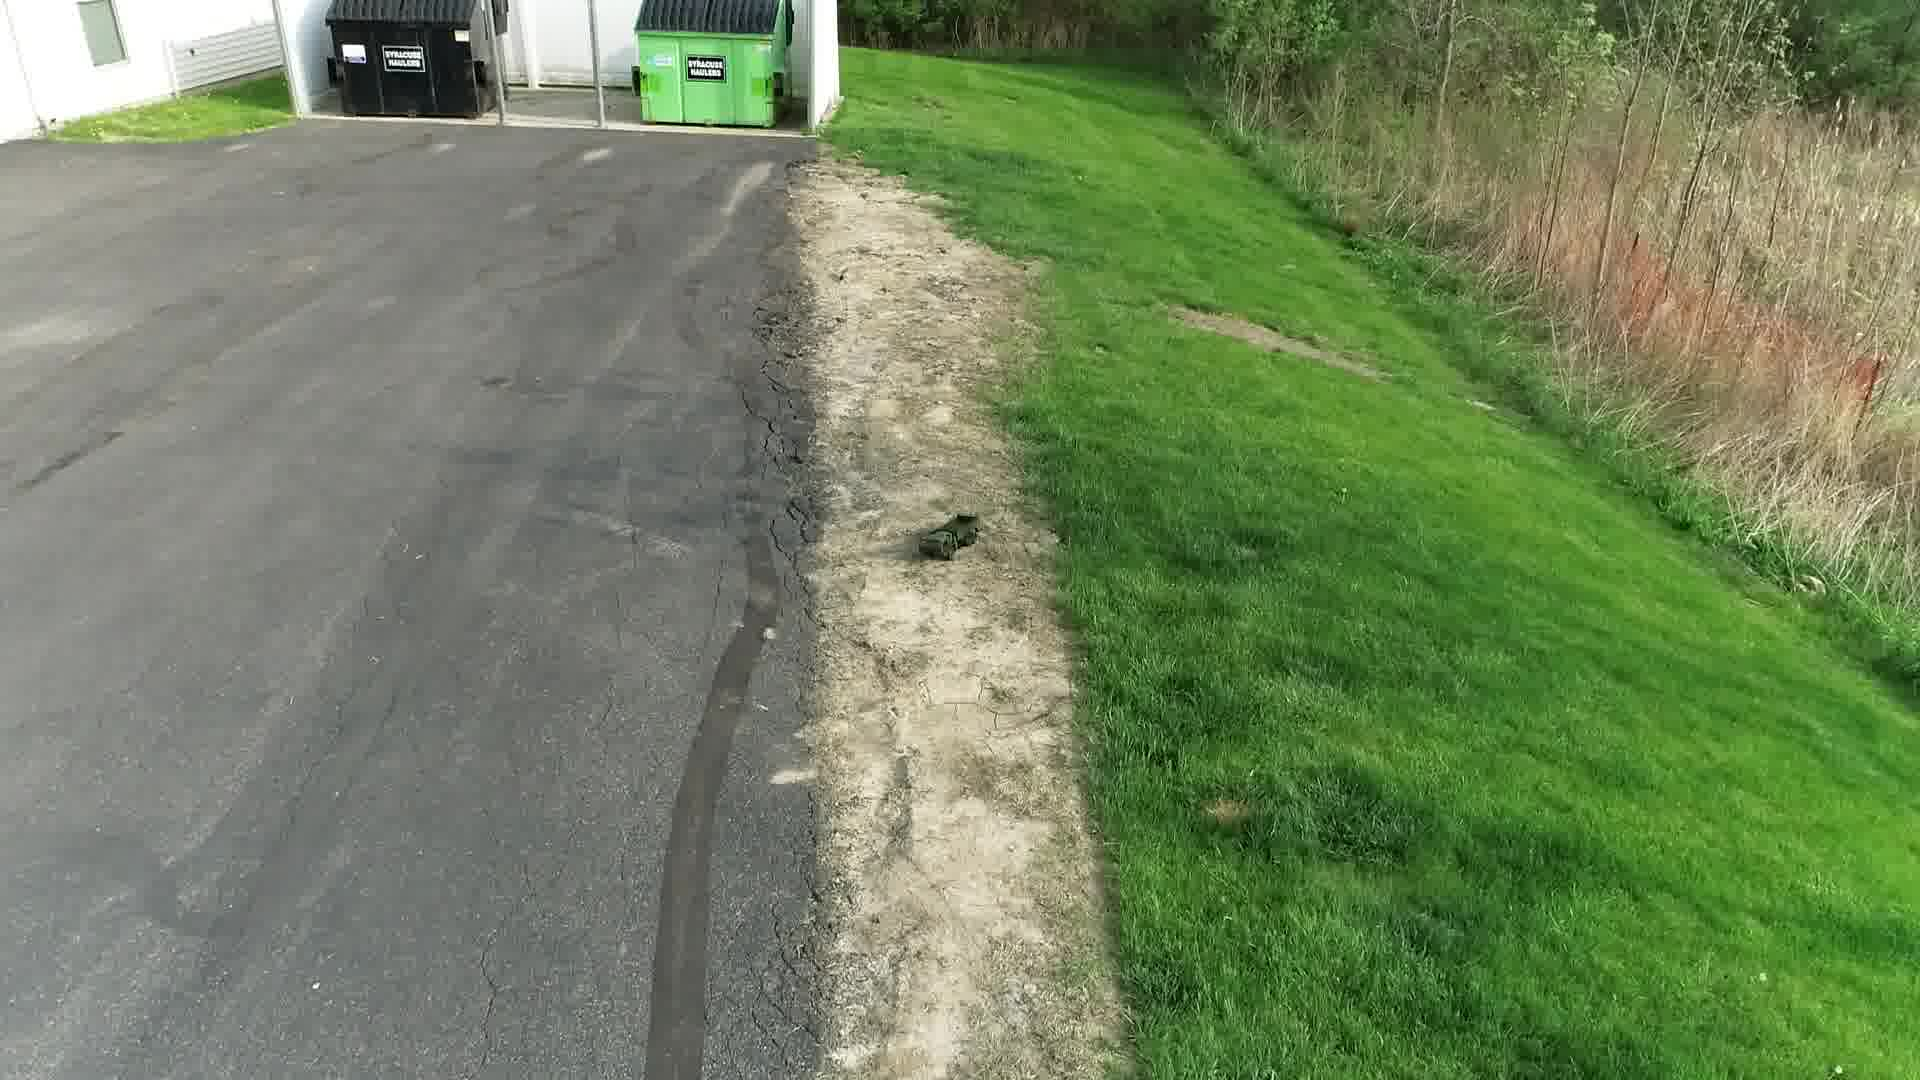transporter9: (916, 512, 986, 562)
